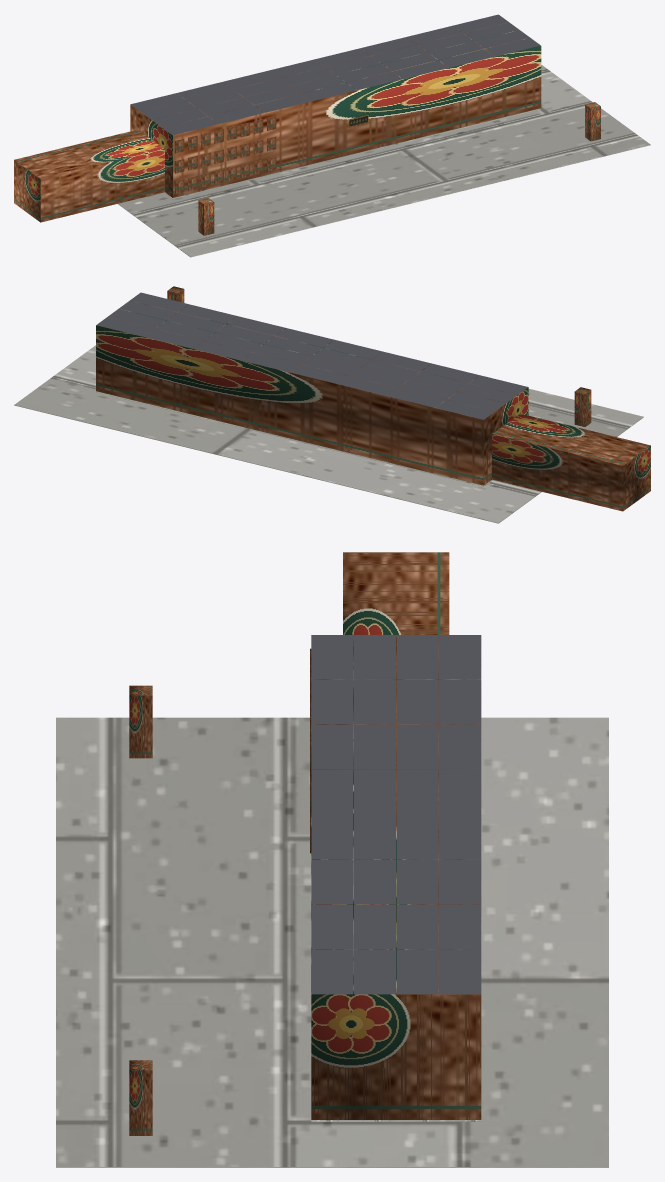
The picture shows the model from 3 angles, top to bottom: view 1: azimuth 30°, elevation 25°; view 2: azimuth 150°, elevation 25°; view 3: azimuth 270°, elevation 25°; orthographic projection. The views are drawn at different scales.
Visible parts, largest first — view 1: 11680_01_06022_015_02_L2__body, 11680_01_06022_015_01_L2__base, 11680_01_06022_015_03_L2__roof, 11680_01_06022_015_05_L2__openings, 11680_01_06022_015_06_L2__green; view 2: 11680_01_06022_015_02_L2__body, 11680_01_06022_015_01_L2__base, 11680_01_06022_015_03_L2__roof, 11680_01_06022_015_06_L2__green; view 3: 11680_01_06022_015_01_L2__base, 11680_01_06022_015_03_L2__roof, 11680_01_06022_015_02_L2__body, 11680_01_06022_015_06_L2__green.
Boxes of the visible parts, bbox=[...] form: 11680_01_06022_015_02_L2__body: bbox=[14, 22, 541, 222]; 11680_01_06022_015_01_L2__base: bbox=[118, 65, 650, 257]; 11680_01_06022_015_03_L2__roof: bbox=[131, 14, 540, 134]; 11680_01_06022_015_05_L2__openings: bbox=[174, 116, 276, 193]; 11680_01_06022_015_06_L2__green: bbox=[198, 102, 600, 235]; 11680_01_06022_015_02_L2__body: bbox=[96, 300, 650, 511]; 11680_01_06022_015_01_L2__base: bbox=[14, 345, 643, 523]; 11680_01_06022_015_03_L2__roof: bbox=[96, 292, 527, 419]; 11680_01_06022_015_06_L2__green: bbox=[167, 286, 591, 426]; 11680_01_06022_015_01_L2__base: bbox=[56, 717, 608, 1167]; 11680_01_06022_015_03_L2__roof: bbox=[311, 635, 480, 994]; 11680_01_06022_015_02_L2__body: bbox=[311, 552, 481, 1119]; 11680_01_06022_015_06_L2__green: bbox=[129, 685, 152, 1135].
Bounding box in the file's own units: 117 × 13.32 × 52.
Materials: 5 (5 with a texture image).
